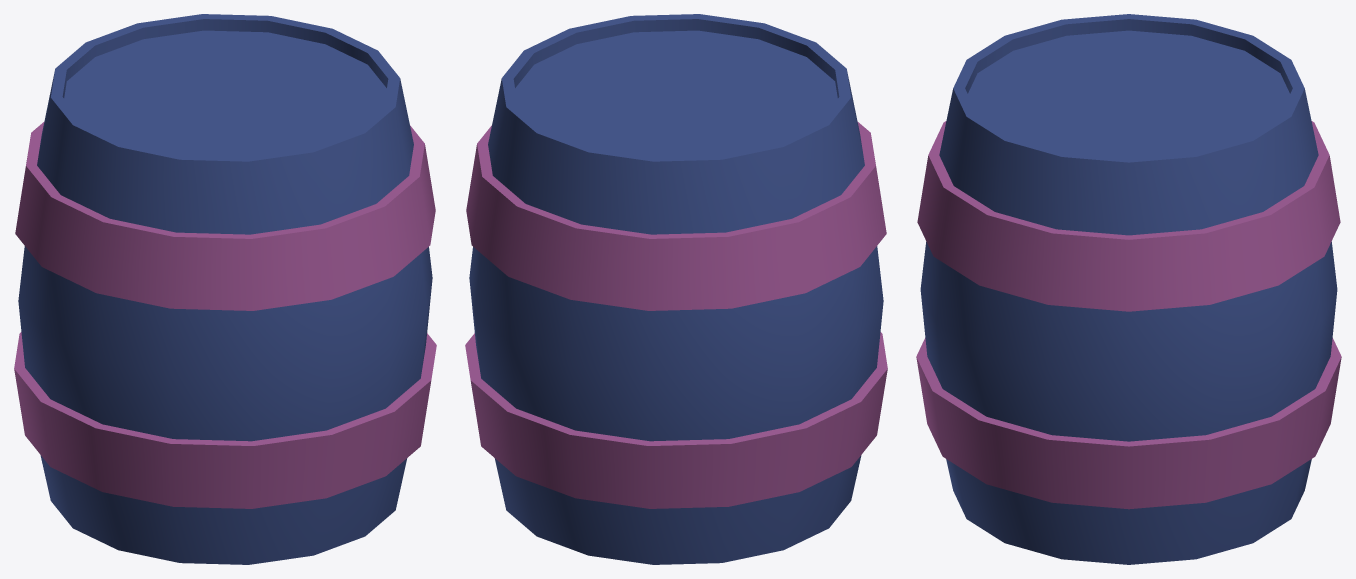
File: Barrel.fbx
The picture shows the model from 3 angles, left to right: view 1: azimuth 30°, elevation 25°; view 2: azimuth 150°, elevation 25°; view 3: azimuth 270°, elevation 25°; orthographic projection.
Parts seen in each view (by area): view 1: Barrel_Bands; view 2: Barrel_Bands; view 3: Barrel_Bands.
Boxes of the visible parts, <box> form: Barrel_Bands: <box>14,14,436,564</box>; Barrel_Bands: <box>465,14,887,564</box>; Barrel_Bands: <box>916,14,1341,564</box>.
Size of the model in its own units: 81.51 by 85.07 by 81.51.
